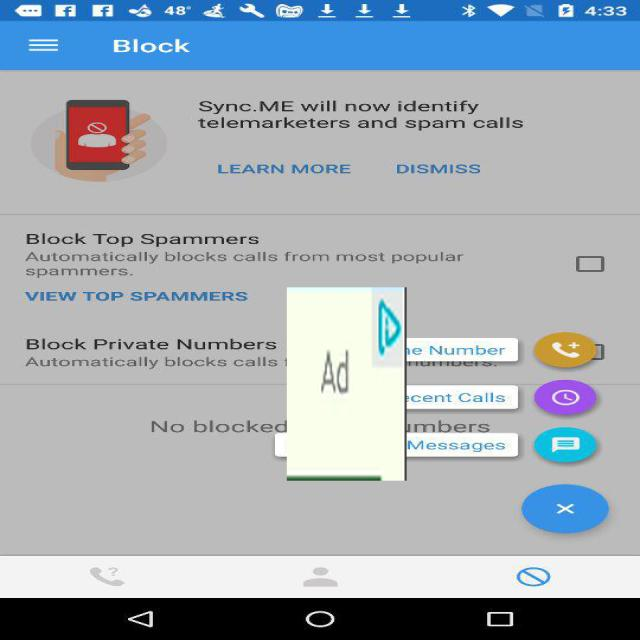sneaking: (287, 287, 406, 481)
